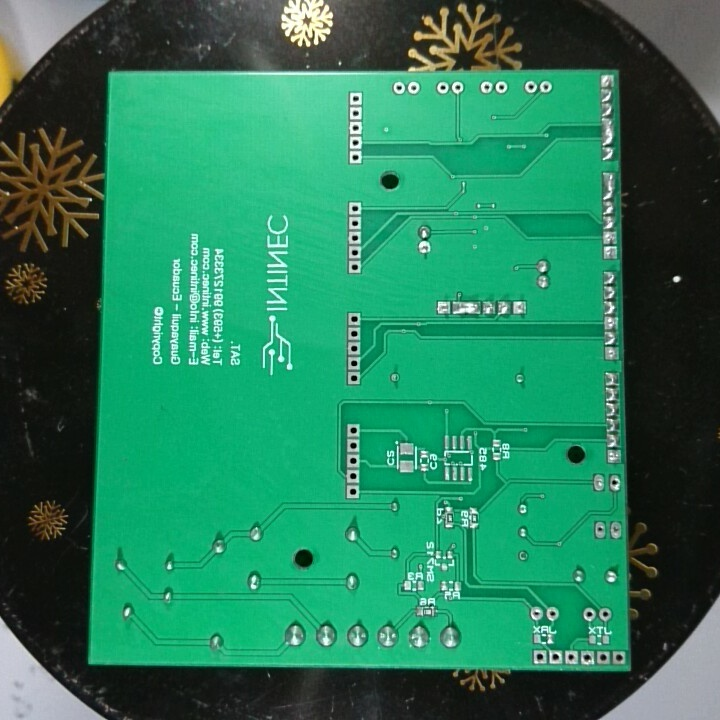F: (592, 471, 608, 498), (610, 517, 624, 546), (347, 254, 364, 275), (348, 105, 367, 123), (544, 602, 561, 622), (608, 471, 622, 495), (593, 518, 607, 542), (580, 646, 595, 668), (346, 309, 364, 327), (347, 226, 364, 245), (598, 603, 612, 626), (406, 78, 421, 99), (347, 242, 364, 260), (416, 238, 433, 256), (386, 369, 404, 386), (531, 647, 547, 666), (547, 647, 563, 666), (348, 146, 363, 166), (529, 603, 544, 623), (564, 647, 579, 667), (347, 200, 364, 217), (347, 213, 364, 230), (349, 119, 365, 137), (601, 229, 619, 245), (347, 323, 362, 342), (346, 422, 366, 436), (345, 483, 361, 500), (581, 604, 597, 621), (604, 314, 620, 331), (601, 72, 617, 89), (437, 299, 451, 318), (596, 648, 610, 667), (607, 447, 621, 466), (513, 298, 526, 318), (347, 89, 363, 105), (345, 468, 361, 484), (391, 79, 406, 96), (603, 346, 620, 361), (602, 245, 619, 260), (493, 78, 507, 96), (539, 78, 553, 96), (347, 437, 361, 455), (450, 80, 465, 96), (350, 135, 366, 150), (346, 340, 361, 356), (347, 355, 361, 372), (347, 369, 361, 386), (612, 649, 626, 666), (436, 79, 450, 95), (516, 549, 532, 563), (524, 78, 537, 95), (480, 79, 493, 94), (347, 453, 359, 467)
P: (452, 300, 482, 316), (602, 169, 616, 198), (603, 117, 615, 147)
